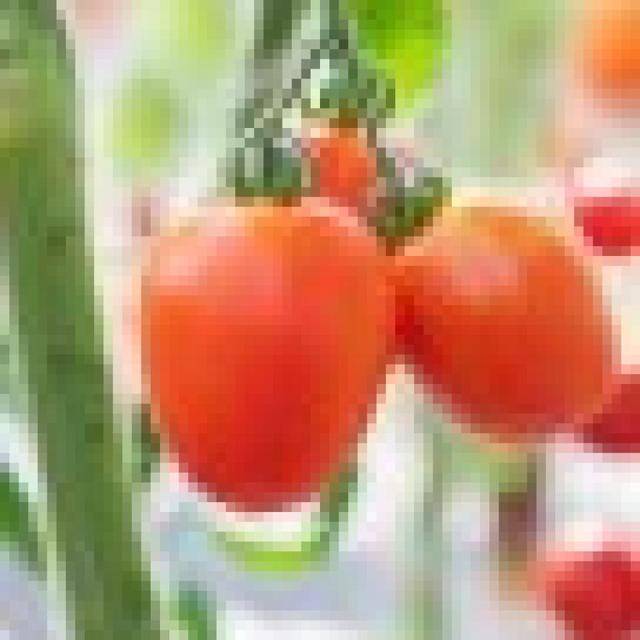Healthy Fruit: (141, 198, 339, 232)
